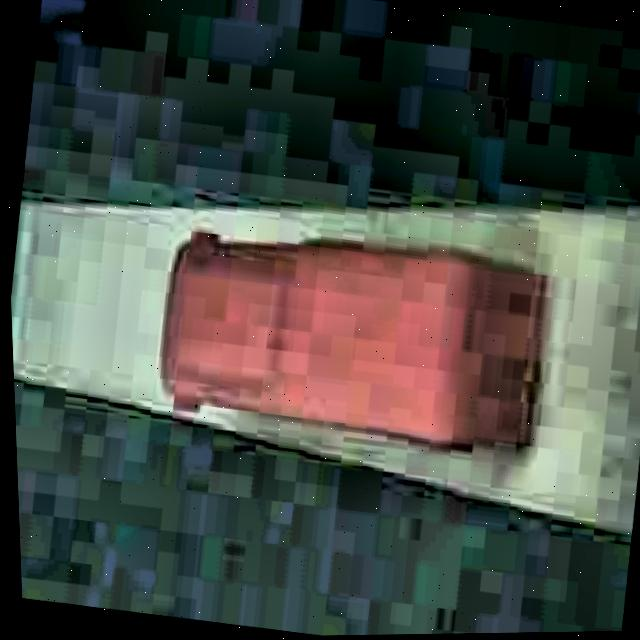bus: (143, 206, 566, 470)
